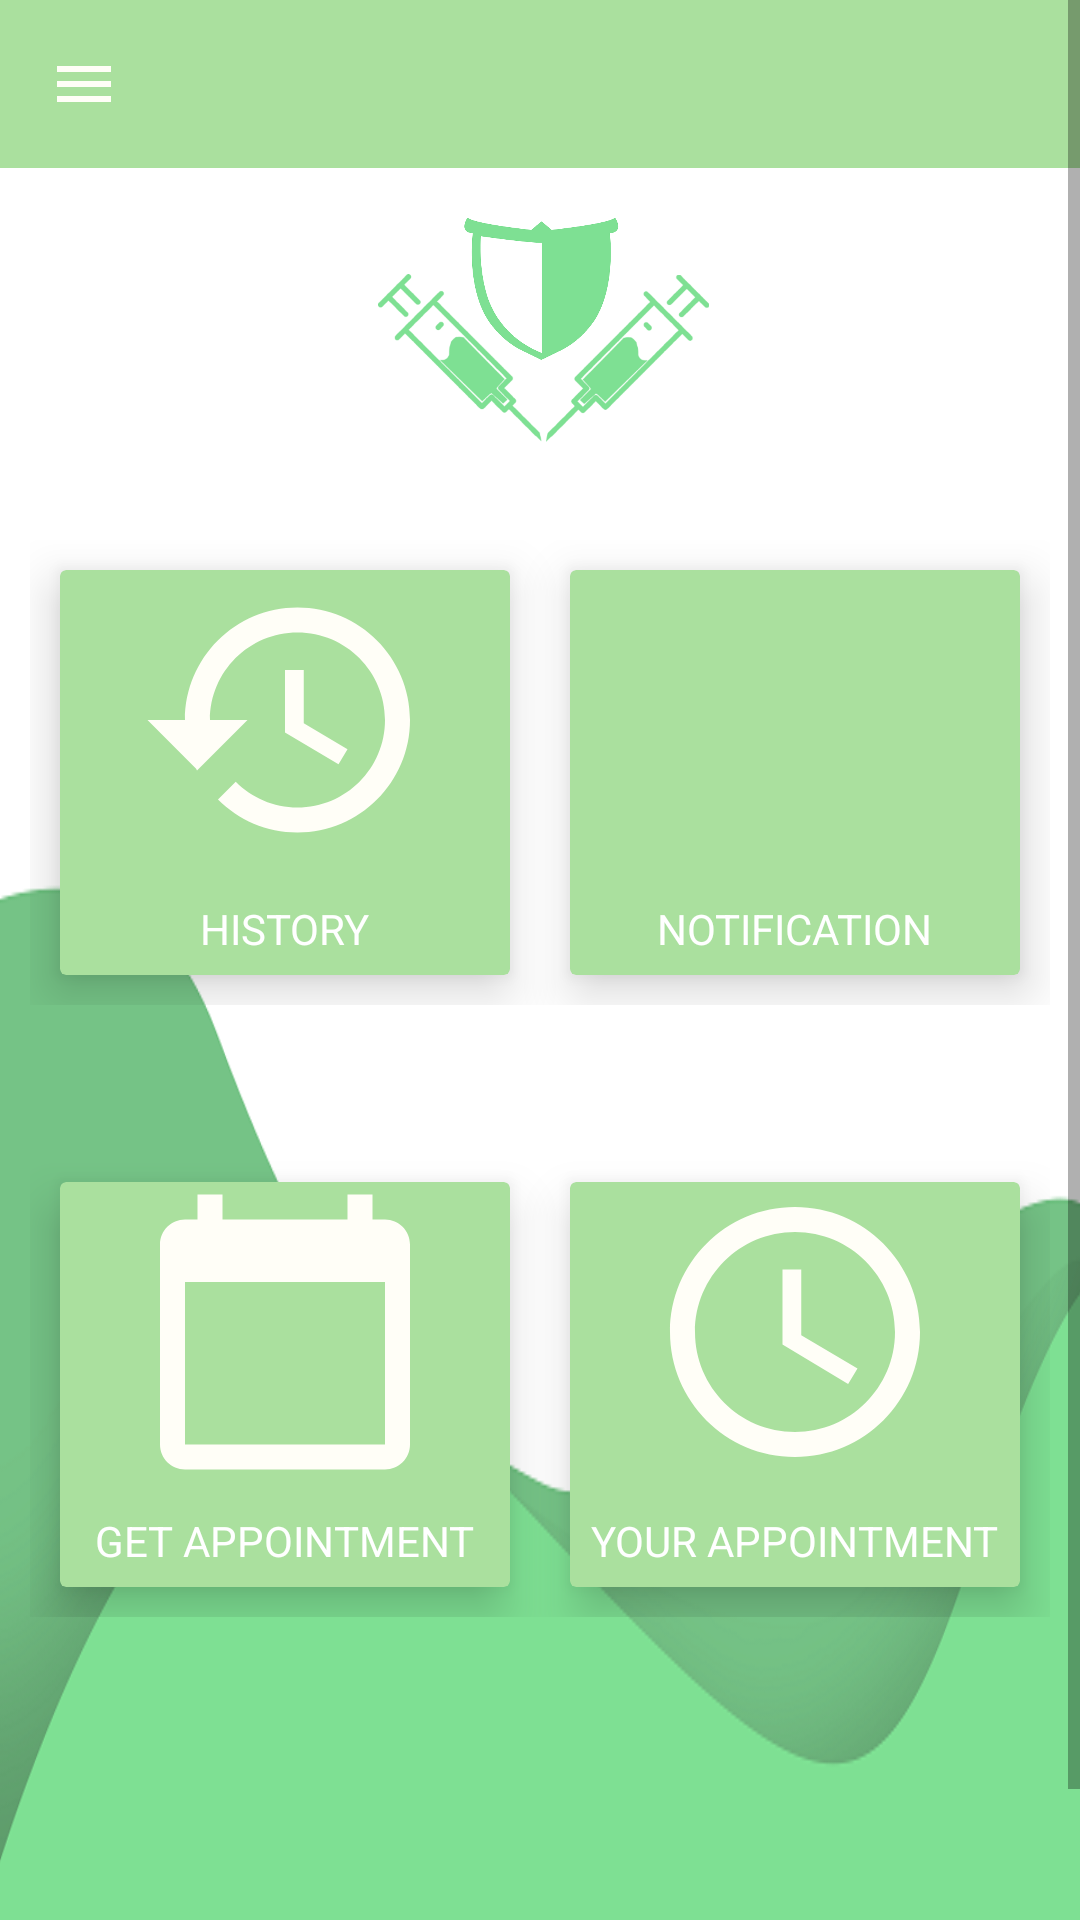

Icon bounding boxes for this 1080x1920 phone screenshot, format [x1=x1, y1=y1, x2=x2, y2=y2]:
access time: [x1=670, y1=1207, x2=920, y2=1457]
calendar today: [x1=160, y1=1194, x2=410, y2=1470]
